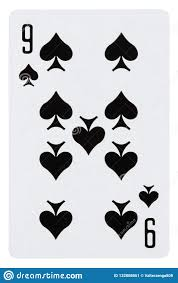nine of spades: (10, 9, 169, 261)
